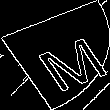M_NW: (12, 21, 98, 89)
